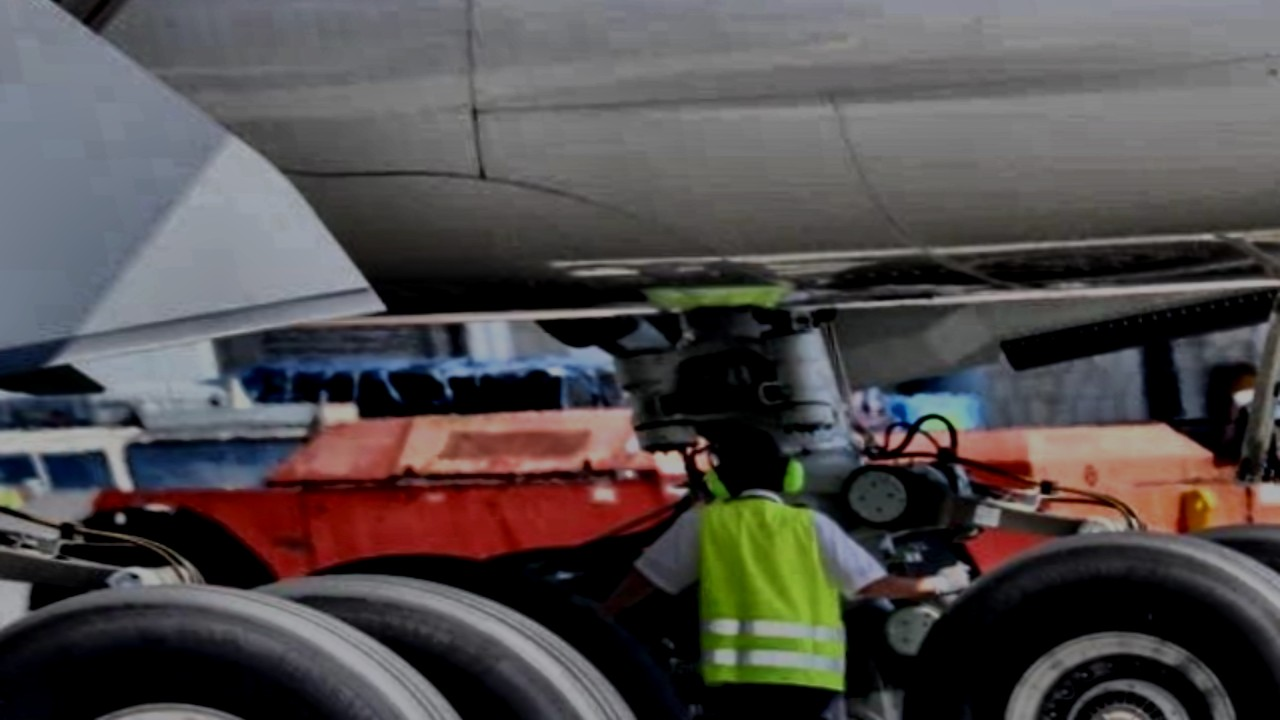wheel: (0, 565, 563, 720), (873, 518, 1280, 720), (201, 558, 708, 720), (47, 504, 284, 603), (1172, 514, 1280, 720)
